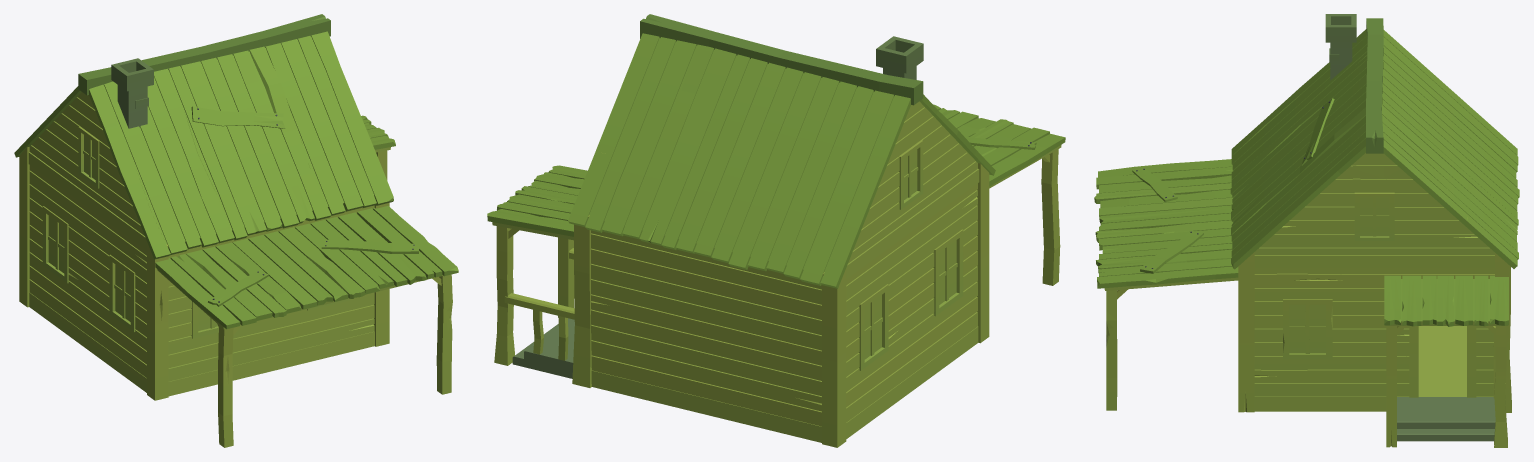
Rendered from House_02.fbx.
3 renders of one model, left to right at view 1: azimuth 30°, elevation 25°; view 2: azimuth 150°, elevation 25°; view 3: azimuth 270°, elevation 25°, orthographic. The views are drawn at different scales.
Visible parts, largest first — view 1: House_02; view 2: House_02; view 3: House_02.
Part boxes in pixels (<box>): House_02: <box>14,14,458,447</box>; House_02: <box>487,14,1065,447</box>; House_02: <box>1094,14,1519,447</box>.
Bounding box in the file's own units: 6.99 × 6.01 × 7.96.
